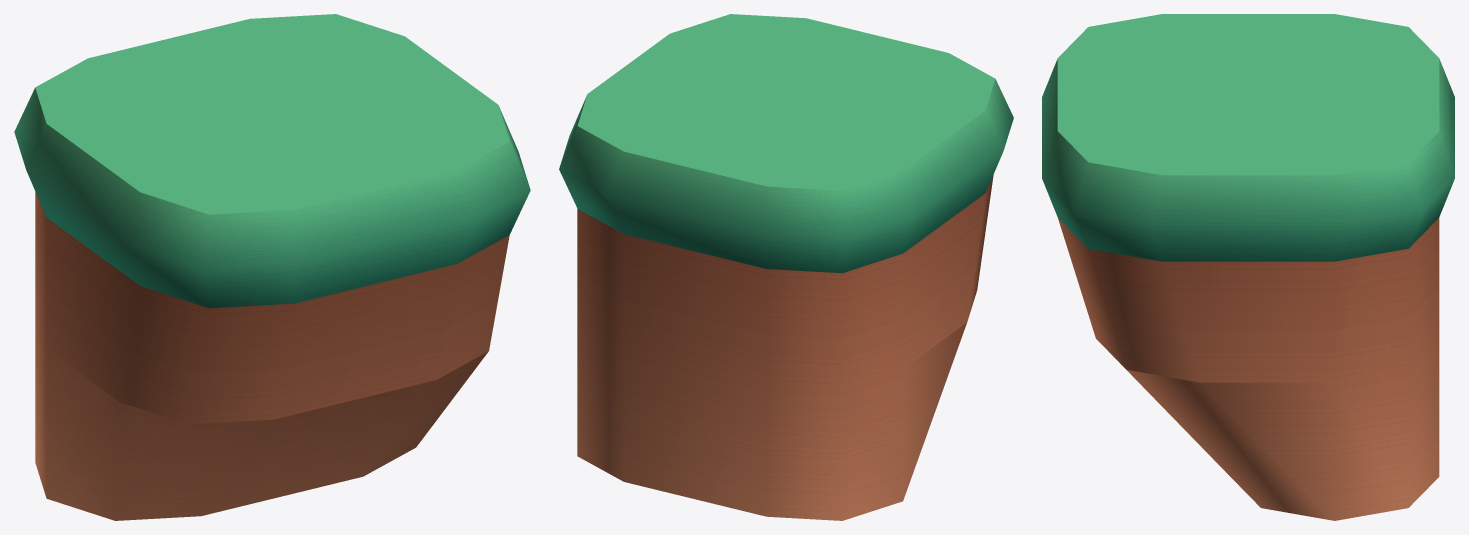
The model's file is block-grass-edge.glb.
3 renders of one model, left to right at view 1: azimuth 30°, elevation 25°; view 2: azimuth 150°, elevation 25°; view 3: azimuth 270°, elevation 25°, orthographic. The views are drawn at different scales.
Visible parts, largest first — view 1: block-grass-edge; view 2: block-grass-edge; view 3: block-grass-edge.
Part boxes in pixels (bbox=[...]): block-grass-edge: bbox=[14, 14, 530, 520]; block-grass-edge: bbox=[559, 14, 1013, 520]; block-grass-edge: bbox=[1042, 14, 1454, 520].
Bounding box in the file's own units: 1.08 × 1 × 1.08.
Materials: 1 (1 with a texture image).
